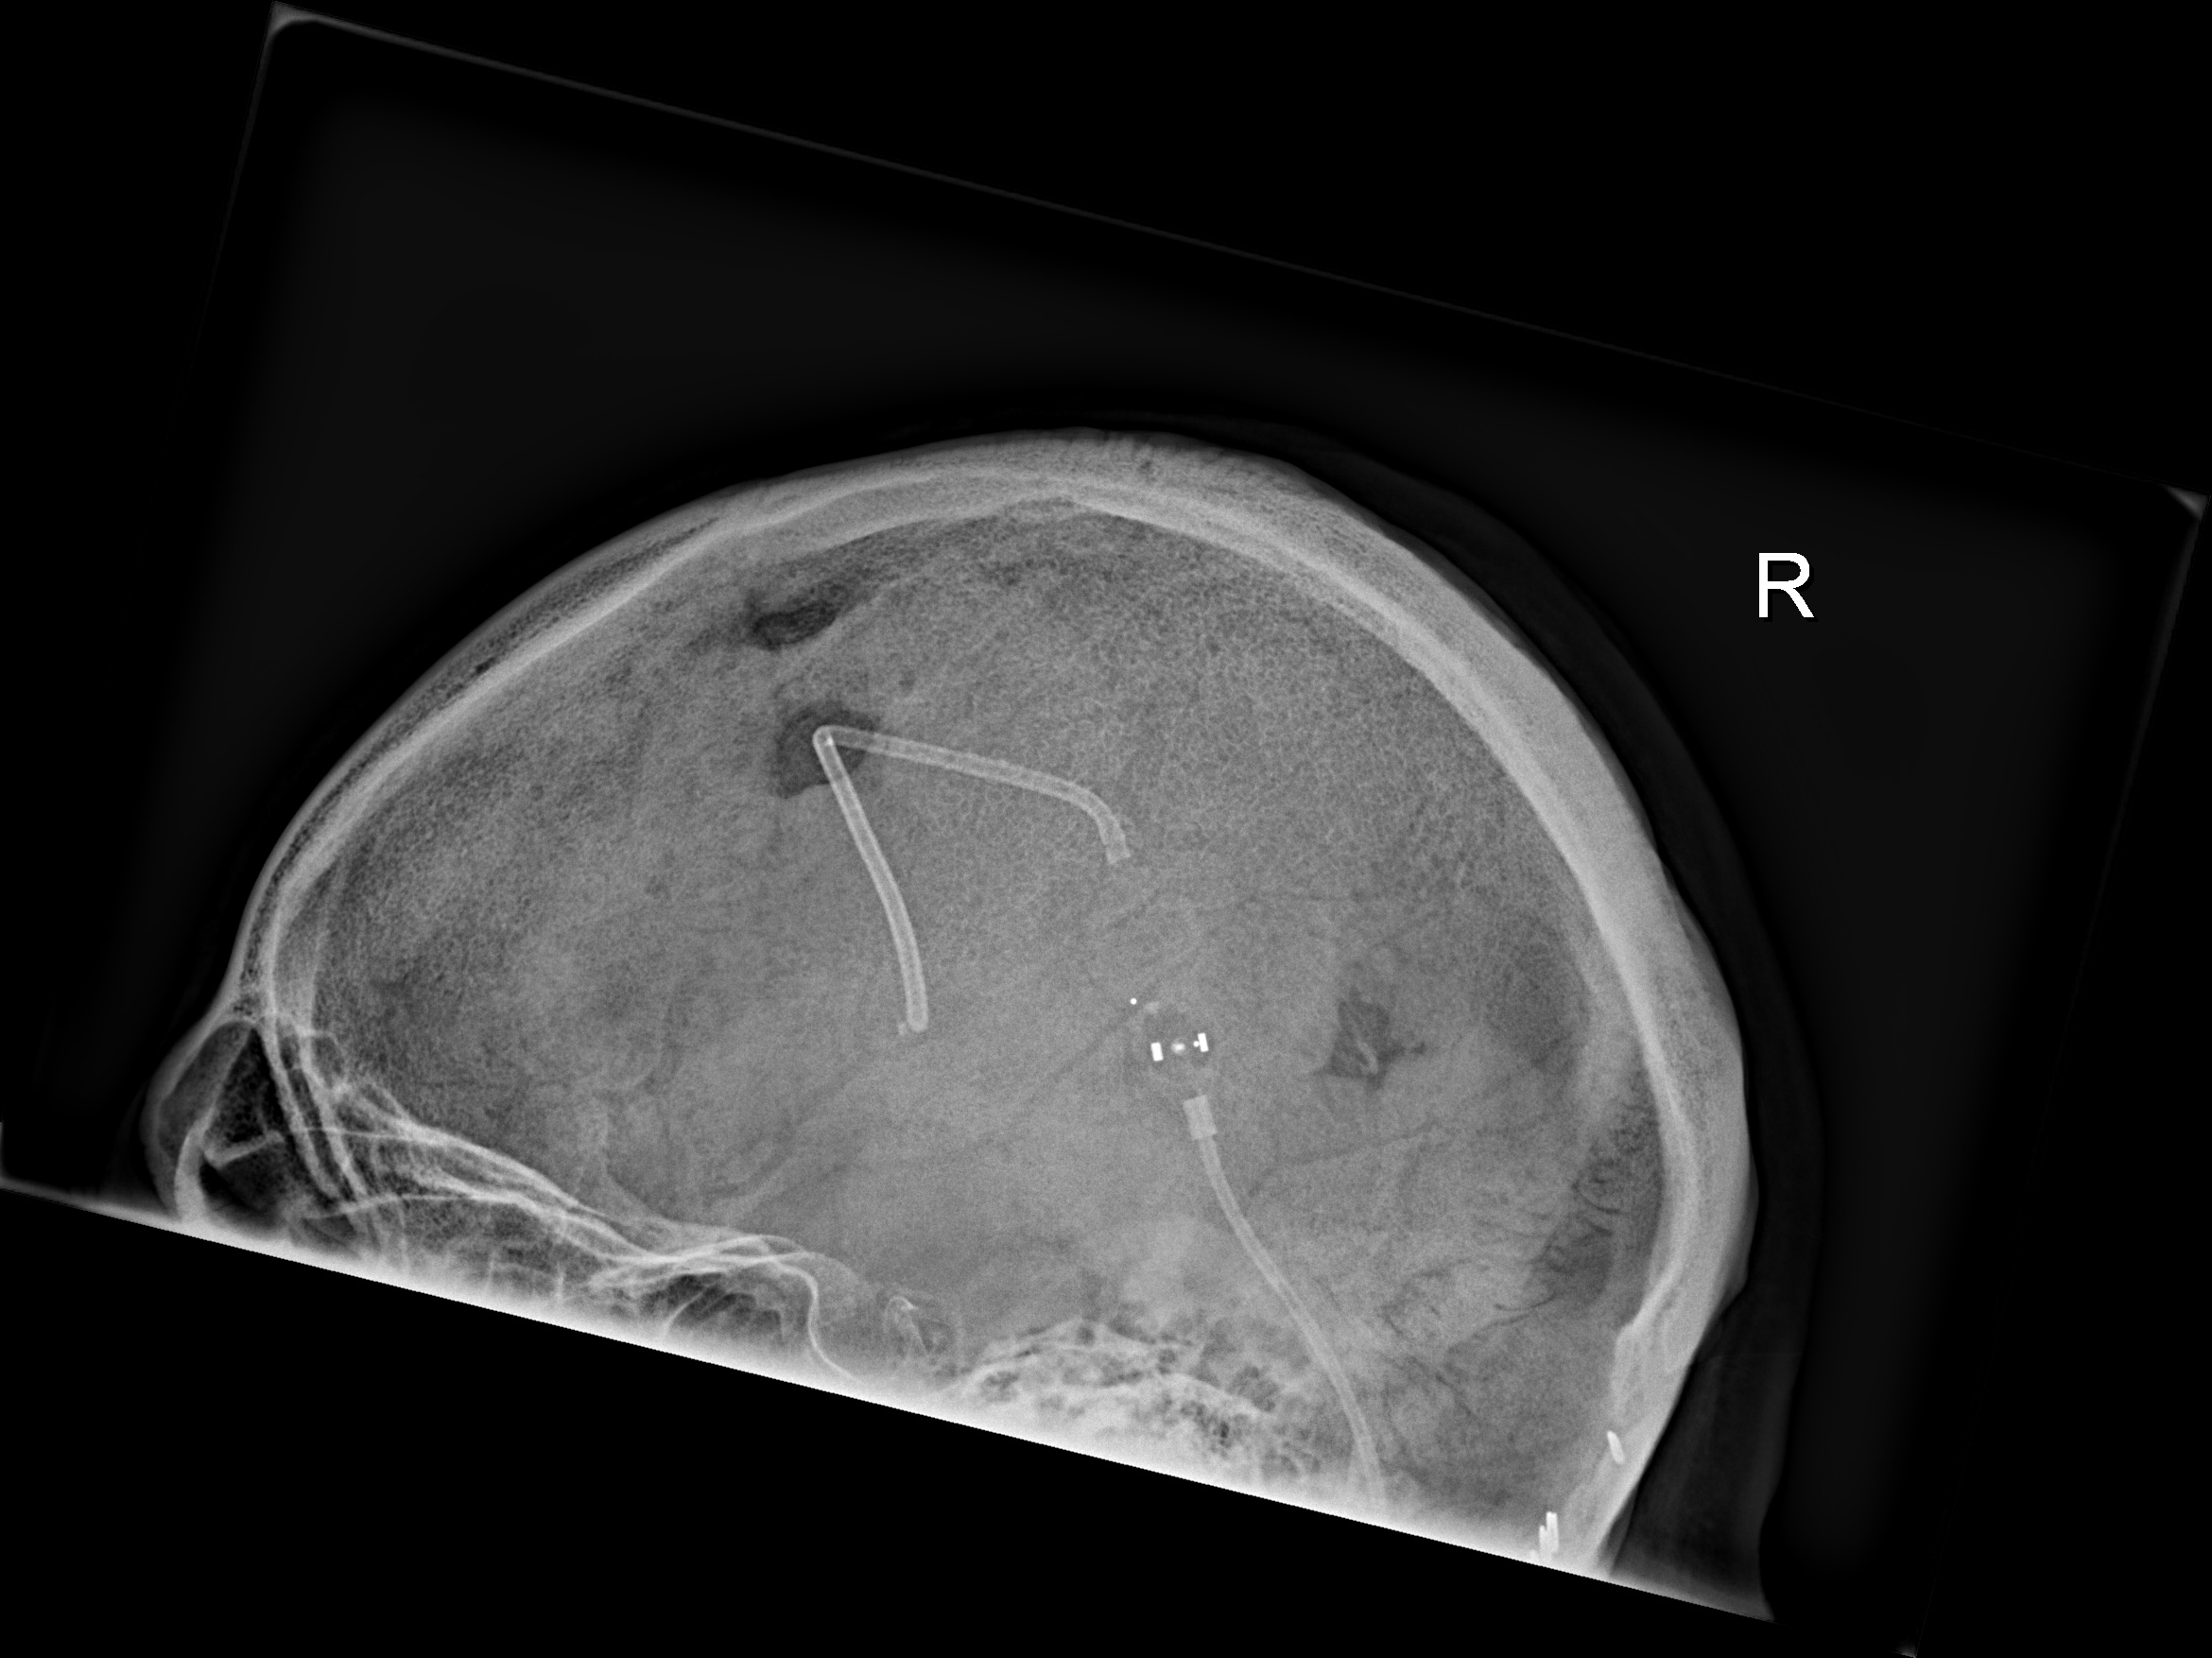Codman Certas: (1104, 967, 1238, 1118)
